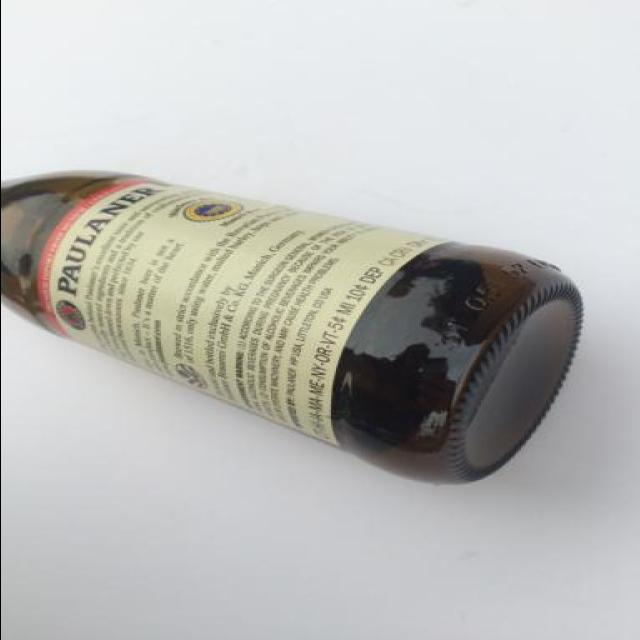litter: (1, 170, 586, 486)
